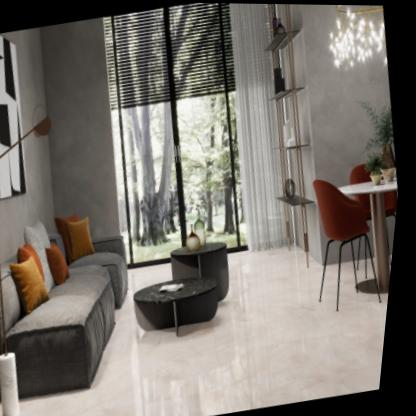Ceramic floor: (87, 292, 394, 416)
Curtains: (229, 3, 292, 251)
Dining Table: (301, 145, 405, 316)
Sofa: (0, 228, 133, 403)
